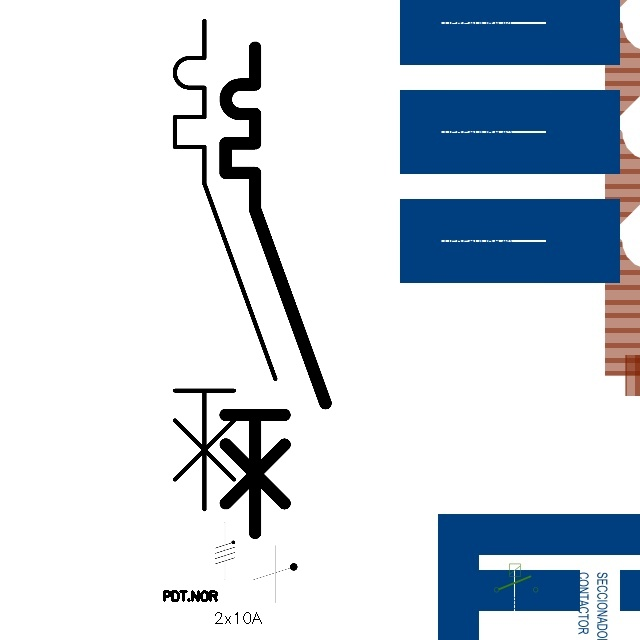interruptor_termomagnetico: (162, 8, 287, 521), (213, 35, 338, 545)
